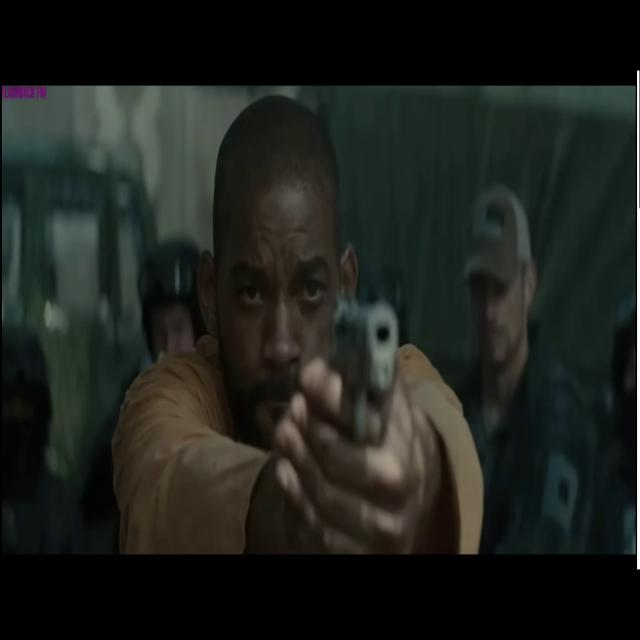weapons: (319, 268, 411, 500)
